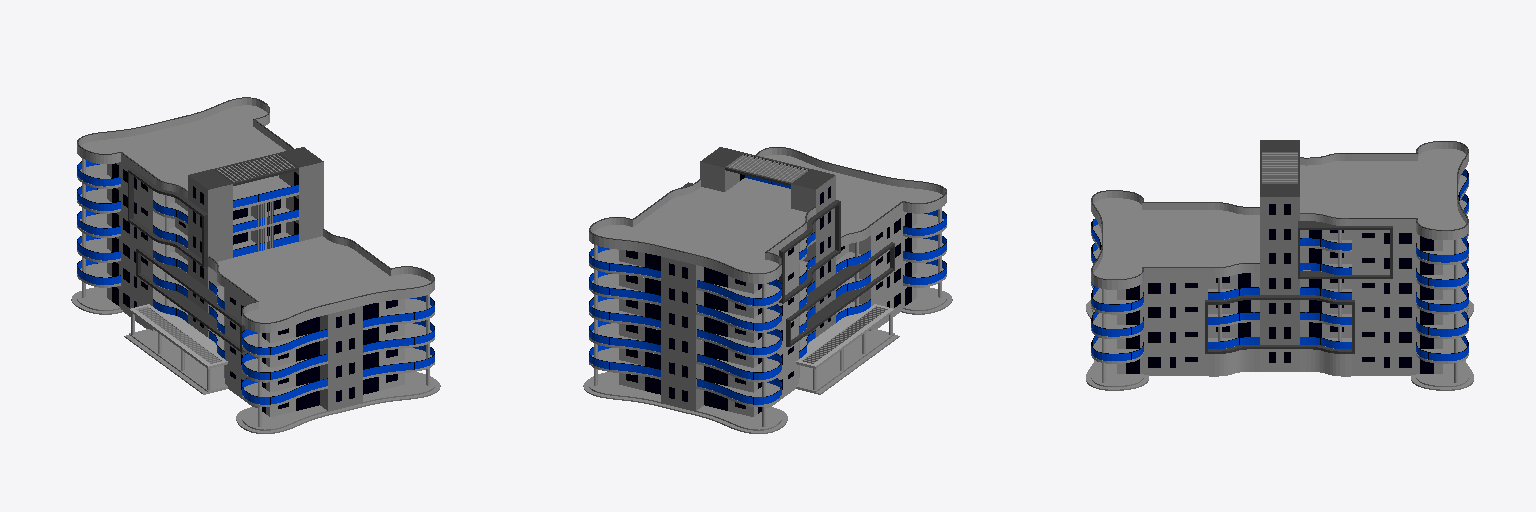
The model's file is building_001.obj.
The picture shows the model from 3 angles: view 1: azimuth 30°, elevation 25°; view 2: azimuth 150°, elevation 25°; view 3: azimuth 270°, elevation 25°; orthographic projection.
Parts seen in each view (by area): view 1: FLOOR, BALCONY, WALL, ROOF_01, PERGOLA, GROUND_FLOOR_02, DESIGN, DOOR, GROUND_FLOOR_01, WINDOW, GROUND_FLOOR_03; view 2: BALCONY, FLOOR, WALL, ROOF_01, PERGOLA, GROUND_FLOOR_02, DESIGN, DOOR, GROUND_FLOOR_01, WINDOW, GROUND_FLOOR_03; view 3: FLOOR, WALL, BALCONY, ROOF_01, GROUND_FLOOR_01, WINDOW, DESIGN, DOOR, GROUND_FLOOR_02, GROUND_FLOOR_03.
Boxes of the visible parts, box(x1,y1,x2,y2) form: FLOOR: box(77, 105, 434, 332); BALCONY: box(77, 158, 434, 406); WALL: box(107, 117, 404, 392); ROOF_01: box(77, 97, 434, 330); PERGOLA: box(124, 304, 227, 394); GROUND_FLOOR_02: box(71, 282, 440, 433); DESIGN: box(128, 168, 244, 352); DOOR: box(112, 163, 378, 388); GROUND_FLOOR_01: box(107, 284, 404, 416); WINDOW: box(123, 169, 397, 384); GROUND_FLOOR_03: box(112, 287, 397, 413); BALCONY: box(589, 208, 946, 406); FLOOR: box(589, 155, 946, 283); WALL: box(619, 173, 916, 392); ROOF_01: box(589, 147, 946, 280); PERGOLA: box(796, 304, 899, 394); GROUND_FLOOR_02: box(583, 282, 952, 433); DESIGN: box(681, 182, 894, 346); DOOR: box(645, 213, 911, 388); GROUND_FLOOR_01: box(619, 284, 916, 416); WINDOW: box(626, 211, 900, 384); GROUND_FLOOR_03: box(626, 287, 911, 413); FLOOR: box(1091, 149, 1468, 289); WALL: box(1103, 160, 1456, 348); BALCONY: box(1091, 169, 1468, 363); ROOF_01: box(1091, 140, 1468, 286); GROUND_FLOOR_01: box(1117, 349, 1442, 376); WINDOW: box(1148, 229, 1411, 342); DESIGN: box(1205, 221, 1392, 353); DOOR: box(1126, 230, 1433, 348); GROUND_FLOOR_02: box(1086, 300, 1473, 390); GROUND_FLOOR_03: box(1126, 352, 1433, 373).
Bounding box in the file's own units: 986 × 852 × 1711.